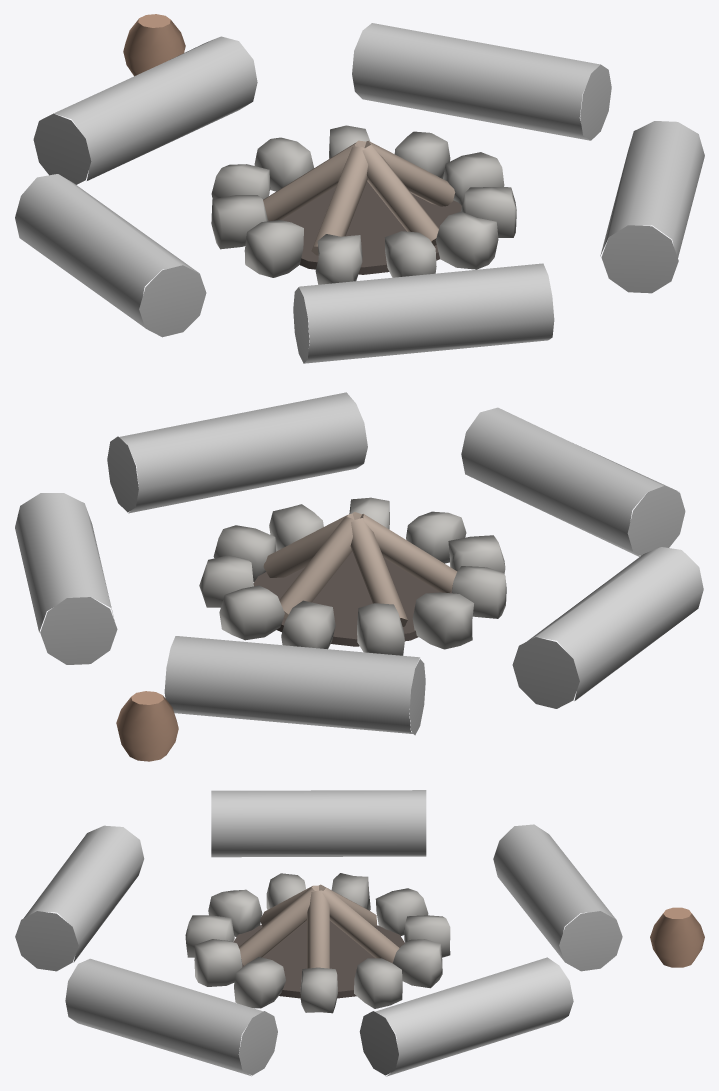
The model's file is hw_campfire_ring.glb.
3 views of the same model, one above another, from view 1: azimuth 30°, elevation 25°; view 2: azimuth 150°, elevation 25°; view 3: azimuth 270°, elevation 25° (orthographic). The views are drawn at different scales.
Visible parts, largest first — view 1: Building; view 2: Building; view 3: Building.
Part boxes in pixels (bbox=[...]): Building: bbox=[15, 14, 704, 363]; Building: bbox=[15, 392, 703, 761]; Building: bbox=[15, 790, 704, 1076].
Size of the model in its own units: 2.42 by 0.3529 by 2.89.
